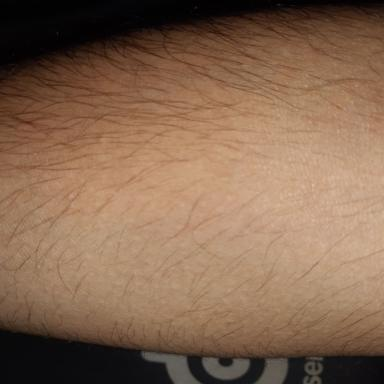normal skin: (2, 7, 382, 357)
